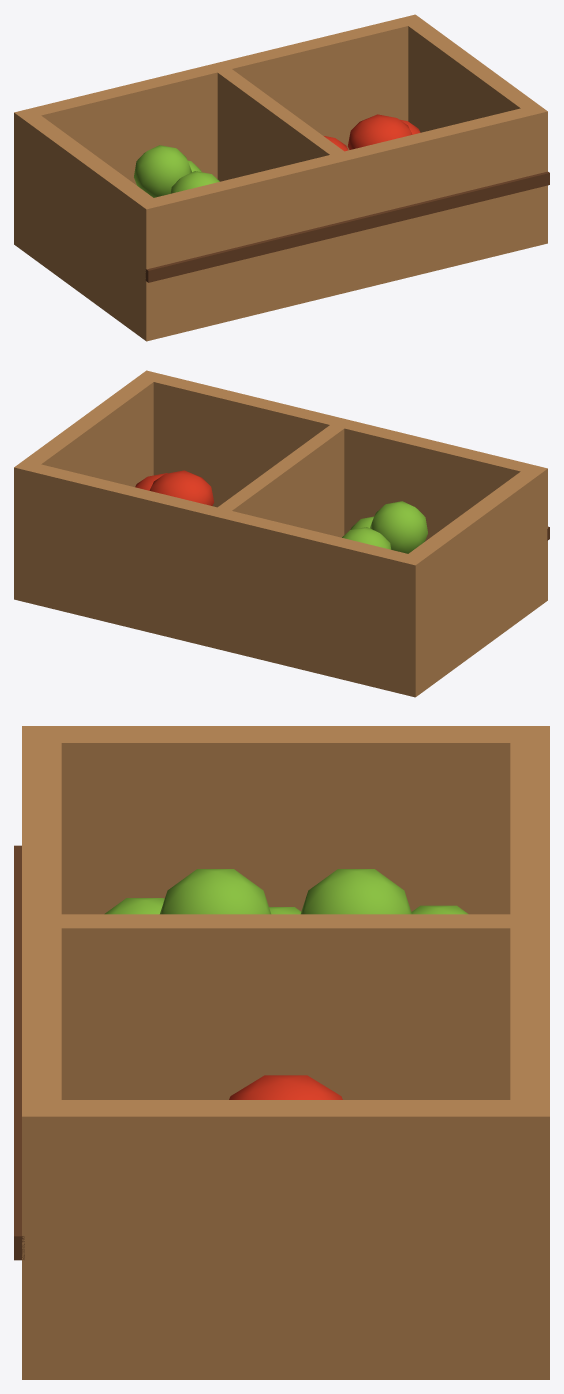
The model's file is decoracion-caja-limas-tomates.glb.
3 views of the same model, one above another, from view 1: azimuth 30°, elevation 25°; view 2: azimuth 150°, elevation 25°; view 3: azimuth 270°, elevation 25° (orthographic). The views are drawn at different scales.
Parts seen in each view (by area): view 1: caja_limas_tomates_MaderaCajon, caja_limas_tomates_MaderaOscura, caja_limas_tomates_FrutaLima, caja_limas_tomates_FrutaTomate; view 2: caja_limas_tomates_MaderaCajon, caja_limas_tomates_FrutaLima, caja_limas_tomates_FrutaTomate; view 3: caja_limas_tomates_MaderaCajon, caja_limas_tomates_FrutaLima, caja_limas_tomates_MaderaOscura, caja_limas_tomates_FrutaTomate.
Part boxes in pixels (x1,y1,x2,y2): caja_limas_tomates_MaderaCajon: (14, 14, 547, 341); caja_limas_tomates_MaderaOscura: (145, 171, 549, 282); caja_limas_tomates_FrutaLima: (134, 145, 219, 197); caja_limas_tomates_FrutaTomate: (324, 114, 420, 151); caja_limas_tomates_MaderaCajon: (14, 370, 547, 697); caja_limas_tomates_FrutaLima: (342, 501, 427, 553); caja_limas_tomates_FrutaTomate: (135, 470, 214, 505); caja_limas_tomates_MaderaCajon: (22, 726, 549, 1379); caja_limas_tomates_FrutaLima: (104, 869, 468, 914); caja_limas_tomates_MaderaOscura: (14, 845, 24, 1260); caja_limas_tomates_FrutaTomate: (229, 1075, 342, 1099).
Size of the model in its own units: 0.7 by 0.22 by 0.406.
